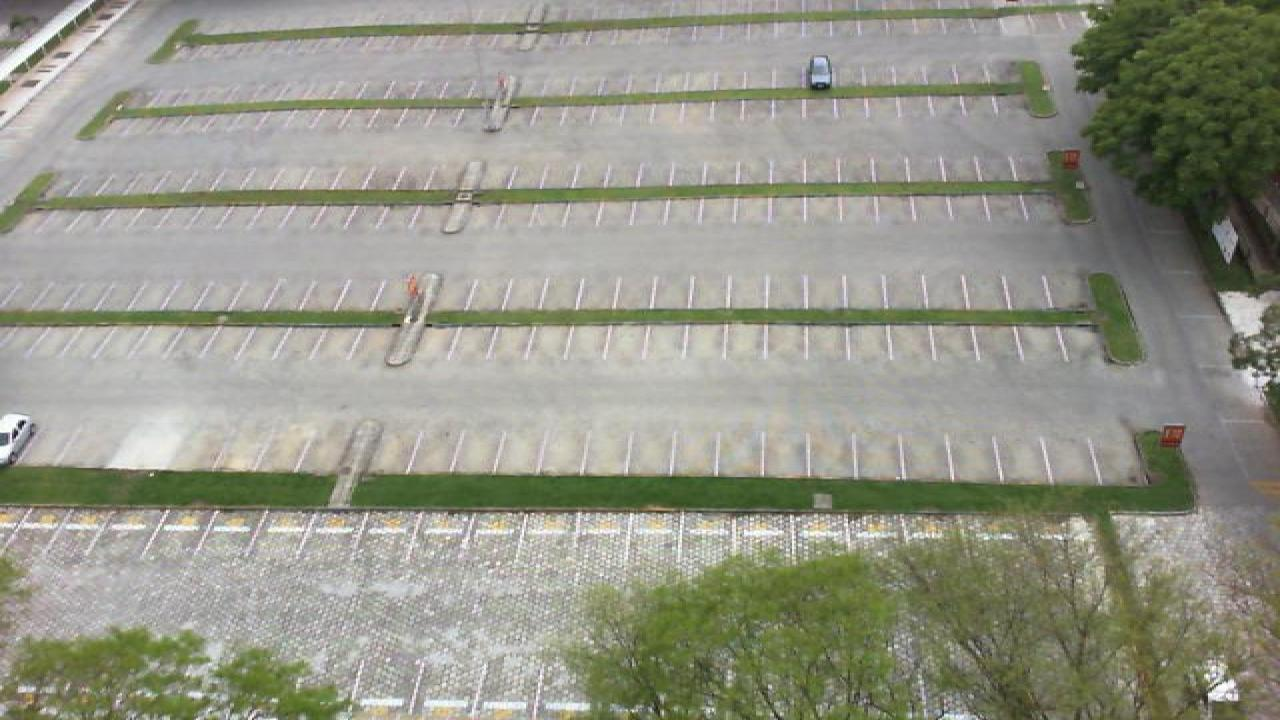Car: (0, 413, 36, 466), (806, 54, 832, 90)
